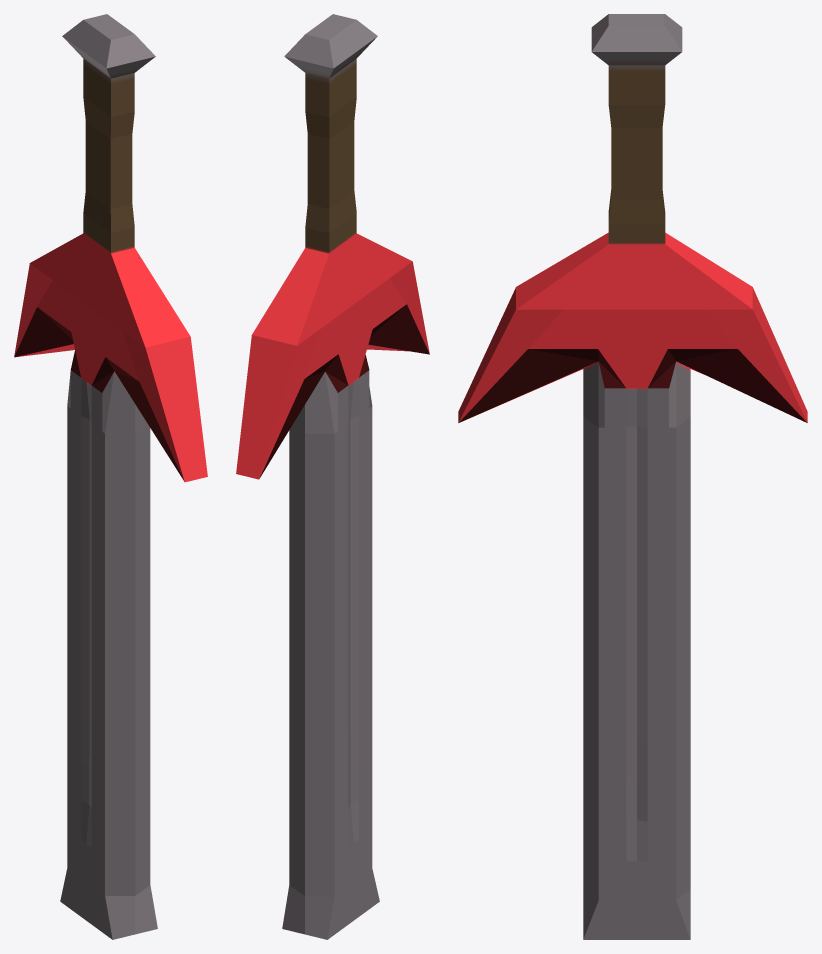
The model's file is Sword.obj.
3 views of the same model, side by side, from view 1: azimuth 30°, elevation 25°; view 2: azimuth 150°, elevation 25°; view 3: azimuth 270°, elevation 25° (orthographic). The views are drawn at different scales.
Visible parts, largest first — view 1: Cube.001_Cube.002; view 2: Cube.001_Cube.002; view 3: Cube.001_Cube.002.
Part boxes in pixels (<box>): Cube.001_Cube.002: <box>14,14,207,939</box>; Cube.001_Cube.002: <box>236,14,429,939</box>; Cube.001_Cube.002: <box>458,14,807,939</box>.
Bounding box in the file's own units: 0.0502 × 0.8611 × 0.3002.
